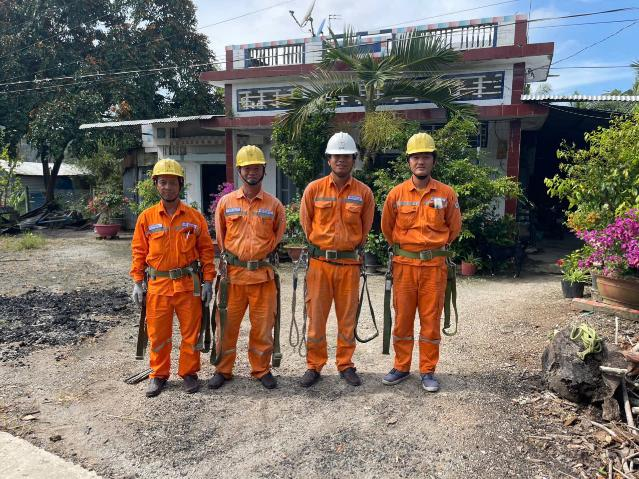gloves: (134, 281, 144, 309), (203, 280, 213, 307)
harness: (302, 234, 363, 267), (221, 241, 279, 273), (390, 241, 461, 265), (139, 265, 208, 278)
helmet: (234, 135, 271, 176), (145, 156, 191, 186), (329, 122, 359, 162), (408, 127, 439, 160)
shoes: (375, 366, 418, 389), (136, 373, 167, 397), (418, 363, 438, 397), (298, 360, 318, 389), (335, 367, 365, 386), (208, 362, 226, 391), (256, 368, 278, 391), (177, 374, 202, 393)
